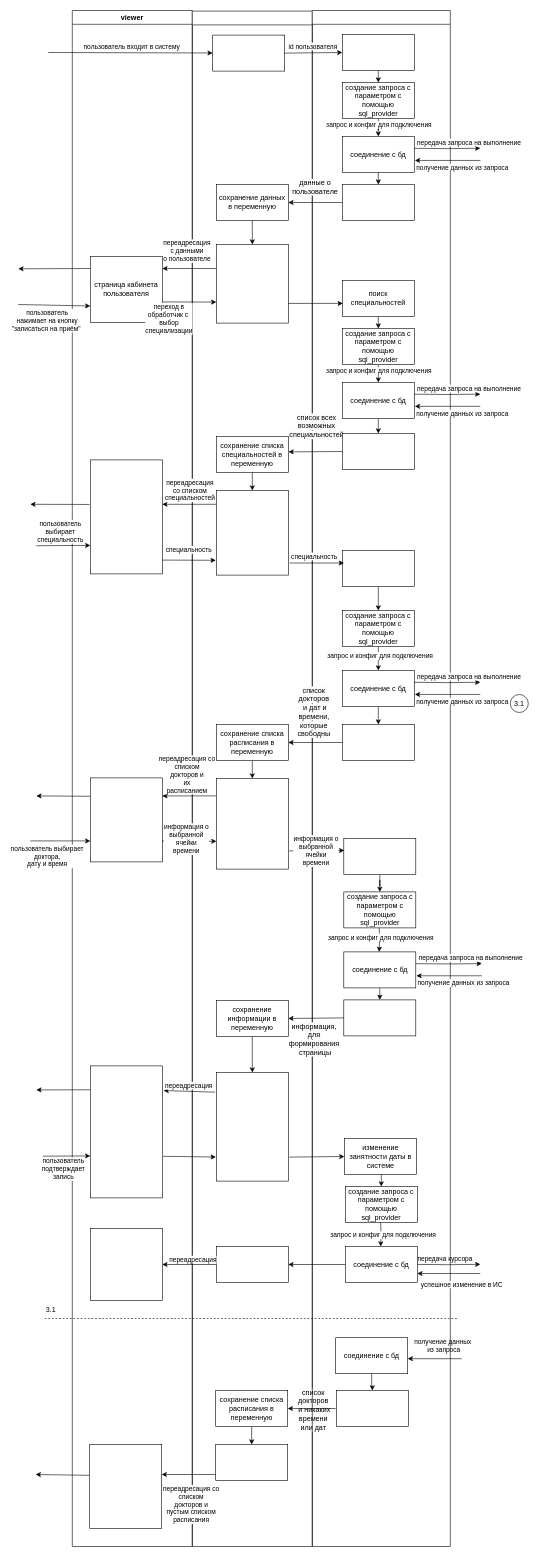
This 539x1557 diagram has some shape labels left out. Here are the shapes that lost their labels. From the top down, the box of each, then its label:
(342, 34, 414, 70): получение персональных данных пользователя
(90, 459, 162, 574): страница страница с выбором специальности
(342, 550, 414, 586): поиск доктора по специальности и доступных даты и времени
(192, 10, 312, 1546): controller
(312, 10, 450, 1546): model
(90, 777, 162, 862): страница с выбором доктора, времени и даты
(343, 838, 416, 874): поиск информации, для составления конечной страницы
(90, 1065, 162, 1198): страница для подтверждения записи
(90, 1228, 162, 1300): страница с сообщением об удачной записи
(89, 1444, 162, 1528): страница ссообщение об неимени времени
